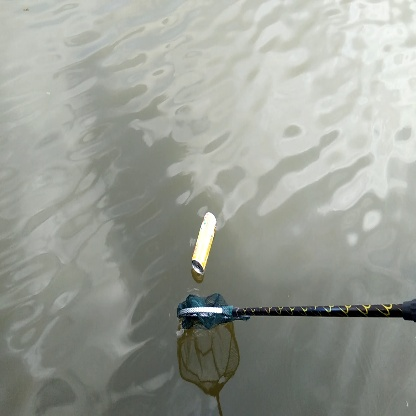bottle: (186, 209, 228, 277)
